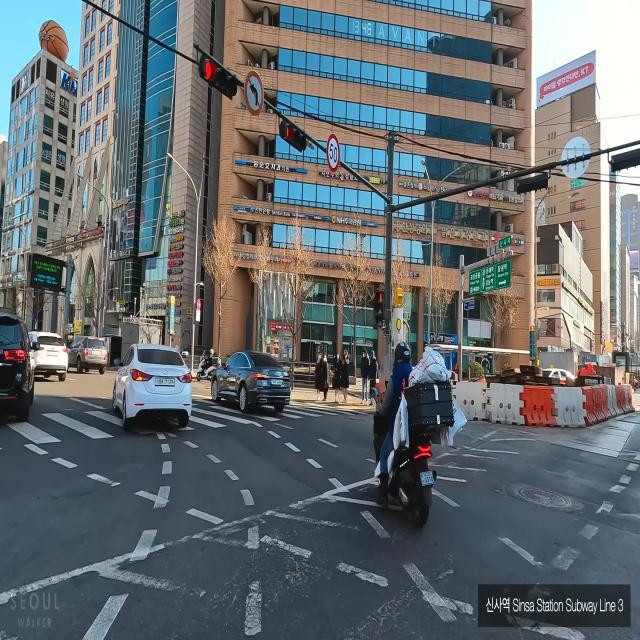Red Light: (279, 118, 309, 156), (201, 60, 213, 82), (283, 123, 292, 141)
